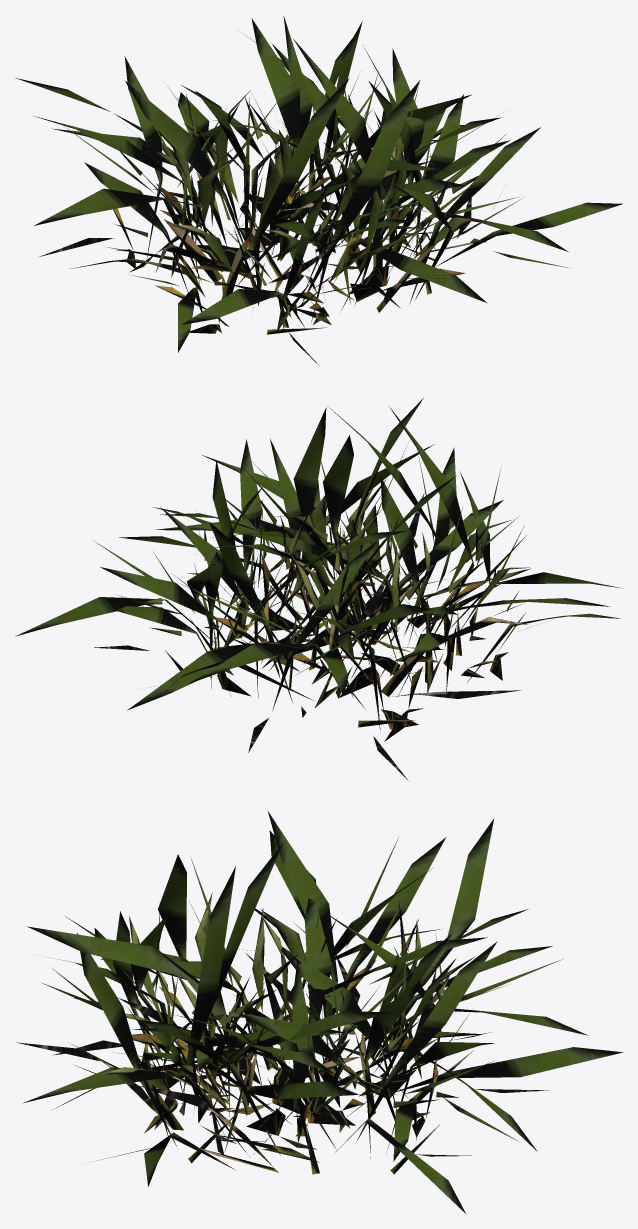
Rendered from SM_Grass_03.gltf.
3 views of the same model, one above another, from view 1: azimuth 30°, elevation 25°; view 2: azimuth 150°, elevation 25°; view 3: azimuth 270°, elevation 25° (orthographic). The views are drawn at different scales.
Parts seen in each view (by area): view 1: SM_Grass_03; view 2: SM_Grass_03; view 3: SM_Grass_03.
Part boxes in pixels (bbox=[...]): SM_Grass_03: bbox=[15, 16, 622, 365]; SM_Grass_03: bbox=[15, 398, 621, 780]; SM_Grass_03: bbox=[15, 811, 622, 1214].
Size of the model in its own units: 0.2788 by 0.1305 by 0.253.
Materials: 1 (1 with a texture image).
